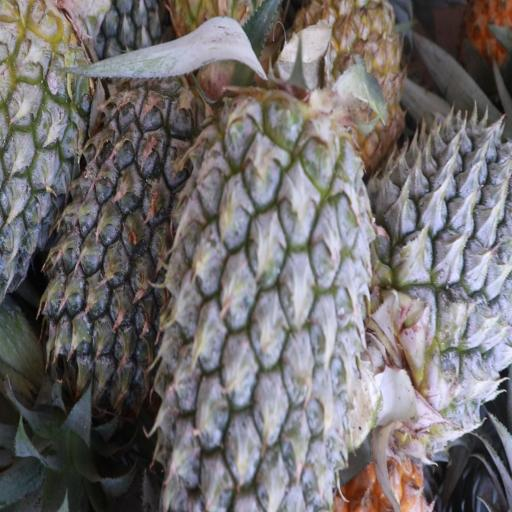Pineapple - v8 v1: (292, 0, 404, 156)
